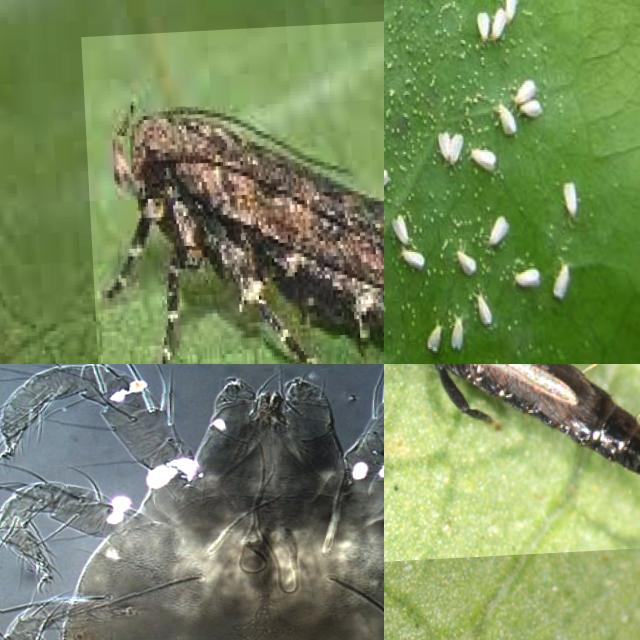AleurodicusDispersus: (477, 0, 527, 53), (428, 118, 471, 176), (478, 198, 520, 256), (510, 76, 550, 126), (489, 93, 527, 143), (446, 236, 486, 283), (558, 166, 586, 232), (418, 306, 450, 362), (443, 302, 473, 360), (468, 286, 498, 336), (552, 251, 576, 307), (473, 134, 502, 180), (389, 202, 416, 250), (507, 262, 547, 292), (384, 157, 398, 196)
GynaikothripsFicorum: (384, 364, 640, 567)
OligonychusMangiferus: (0, 364, 384, 640)
PectinophoraGossypiella: (81, 13, 384, 364)
